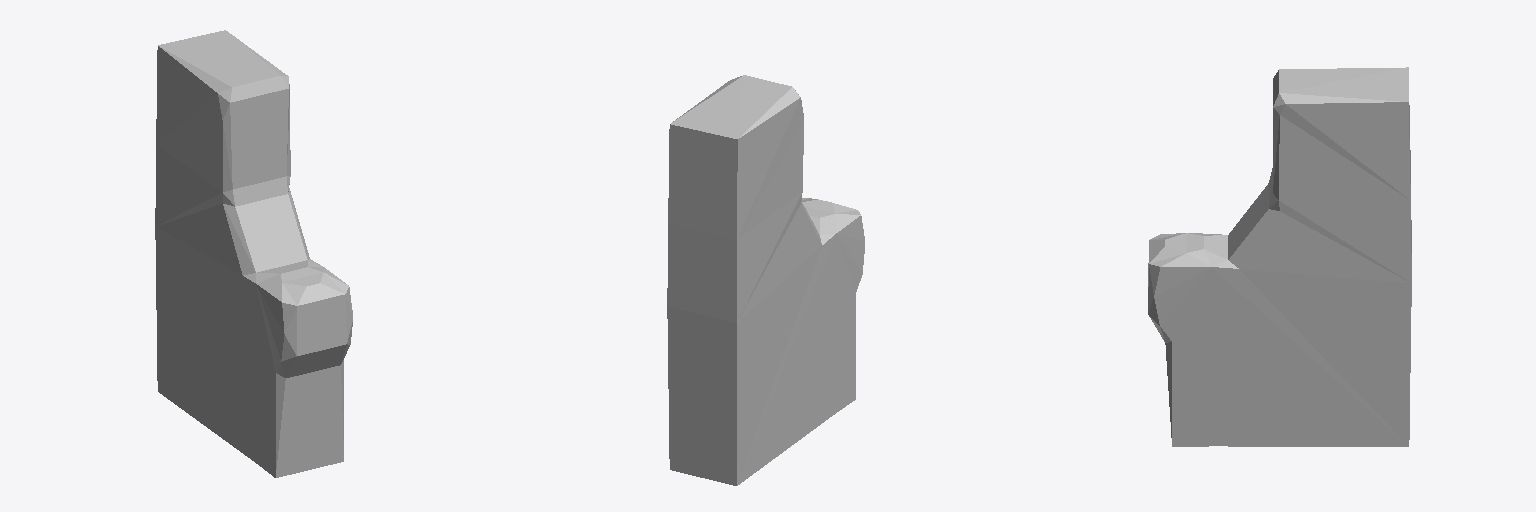
File: wallseparator_down.obj
3 renders of one model, left to right at view 1: azimuth 30°, elevation 25°; view 2: azimuth 150°, elevation 25°; view 3: azimuth 270°, elevation 25°, orthographic.
Visible parts, largest first — view 1: wallseparator_down; view 2: wallseparator_down; view 3: wallseparator_down.
Boxes of the visible parts, box(x1,y1,x2,y2) form: wallseparator_down: box(155, 30, 352, 477); wallseparator_down: box(667, 75, 864, 485); wallseparator_down: box(1148, 67, 1411, 446).
Bounding box in the file's own units: 0.7284 × 3.44 × 2.35.